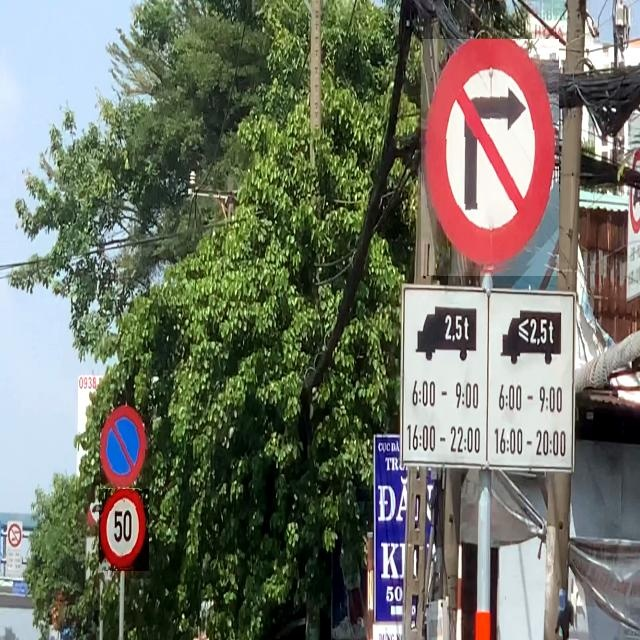bien_cam: (421, 39, 559, 276), (100, 398, 152, 488), (99, 489, 149, 571)
